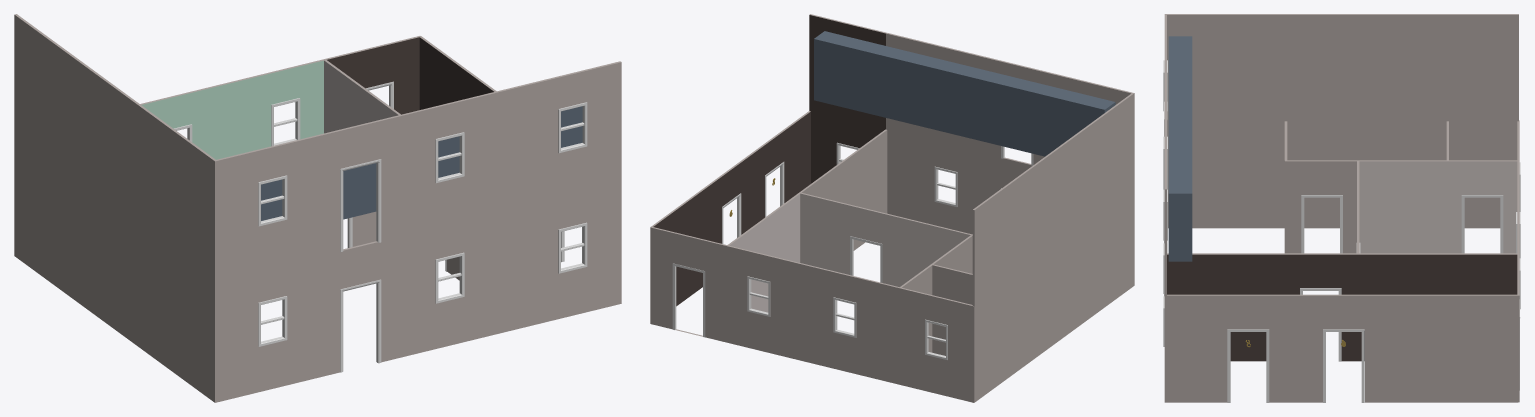
File: Walls_From_Outside.fbx
3 renders of one model, left to right at view 1: azimuth 30°, elevation 25°; view 2: azimuth 150°, elevation 25°; view 3: azimuth 270°, elevation 25°, orthographic. The views are drawn at different scales.
Parts seen in each view (by area): view 1: pCube16, pCube2, pCube17, pCube9, pCube10, pCube18, pCube11, pCube13, pasted__pCube75, pasted__pCube83, pCube12, pasted__pCube1 (+6 smaller); view 2: pCube10, pCube18, pCube17, pCube9, pCube2, pCube12, pCube16, pCube11, pCube13, pCube4, pCube7, pCube8 (+5 smaller); view 3: pCube17, pCube9, pCube13, pCube11, pCube4, pCube8, pCube18, pCube15, pCube6, pCube16, pCube10, pasted__pCube80 (+4 smaller).
Boxes of the visible parts, bbox=[...] form: pCube16: bbox=[214, 61, 621, 281]; pCube2: bbox=[214, 183, 621, 402]; pCube17: bbox=[14, 14, 215, 281]; pCube9: bbox=[14, 135, 214, 401]; pCube10: bbox=[140, 36, 420, 159]; pCube18: bbox=[261, 106, 582, 220]; pCube11: bbox=[324, 60, 459, 280]; pCube13: bbox=[419, 36, 496, 109]; pasted__pCube75: bbox=[340, 279, 381, 372]; pasted__pCube83: bbox=[340, 159, 381, 252]; pCube12: bbox=[352, 211, 376, 246]; pasted__pCube1: bbox=[435, 252, 464, 303]; pCube10: bbox=[650, 227, 974, 402]; pCube18: bbox=[814, 31, 1115, 156]; pCube17: bbox=[972, 93, 1133, 306]; pCube9: bbox=[974, 190, 1133, 402]; pCube2: bbox=[811, 111, 1134, 285]; pCube12: bbox=[800, 192, 972, 286]; pCube16: bbox=[809, 14, 1134, 189]; pCube11: bbox=[727, 129, 887, 312]; pCube13: bbox=[651, 156, 748, 306]; pCube4: bbox=[747, 111, 810, 228]; pCube7: bbox=[932, 264, 972, 355]; pCube8: bbox=[931, 235, 972, 273]; pCube17: bbox=[1167, 14, 1518, 121]; pCube9: bbox=[1167, 121, 1517, 228]; pCube13: bbox=[1305, 294, 1518, 402]; pCube11: bbox=[1167, 253, 1517, 361]; pCube4: bbox=[1167, 294, 1307, 402]; pCube8: bbox=[1360, 160, 1449, 253]; pCube18: bbox=[1168, 36, 1192, 261]; pCube15: bbox=[1285, 160, 1359, 253]; pCube6: bbox=[1447, 160, 1518, 253]; pCube16: bbox=[1164, 14, 1166, 295]; pCube10: bbox=[1517, 120, 1519, 402]; pasted__pCube80: bbox=[1227, 329, 1269, 402].
Bounding box in the file's own units: 17.45 × 9.89 × 14.99.
